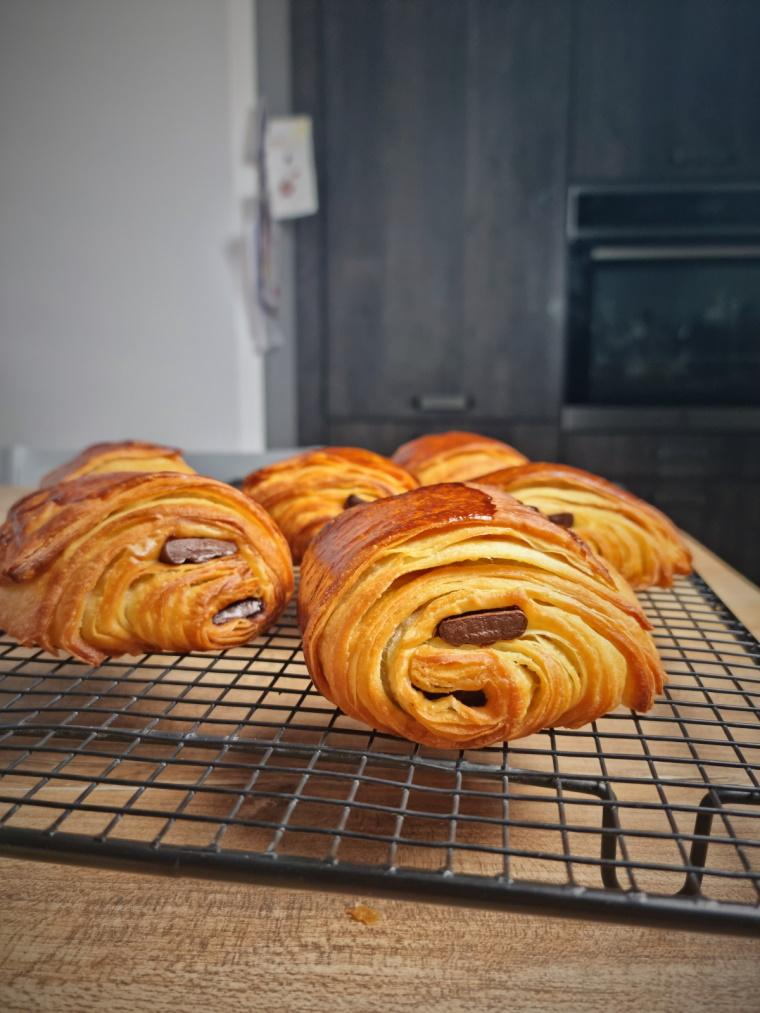pain au chocolat: (295, 478, 671, 759), (0, 468, 297, 679), (456, 450, 697, 603), (246, 438, 413, 535), (388, 428, 533, 481), (60, 431, 193, 487)
